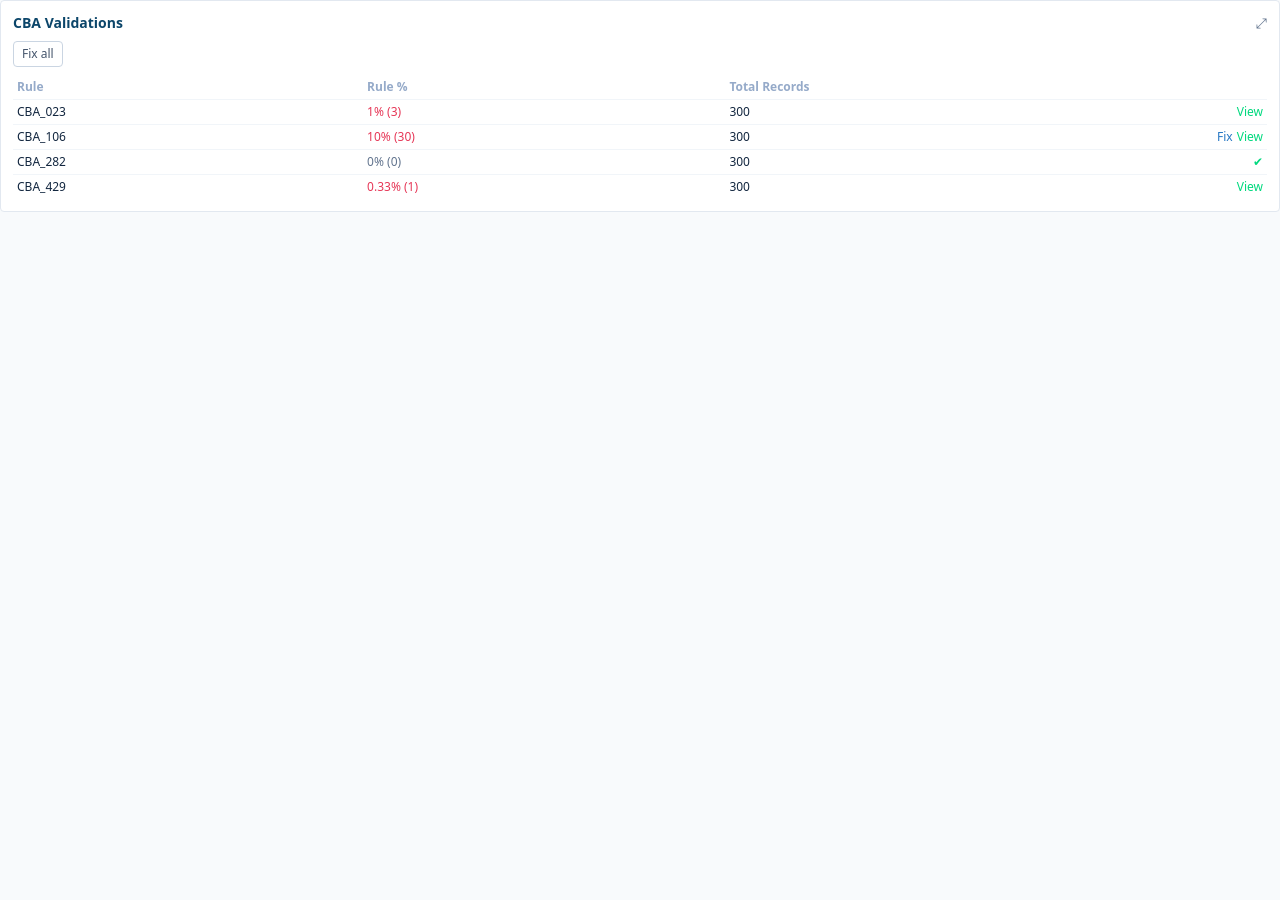
Test: ValidationPanel › opens the full table with the description of every rule
This screenshot has width=1280, height=900.
Click the button named "Expand validations".
click(1261, 23)  # box [1256, 13, 1267, 33]
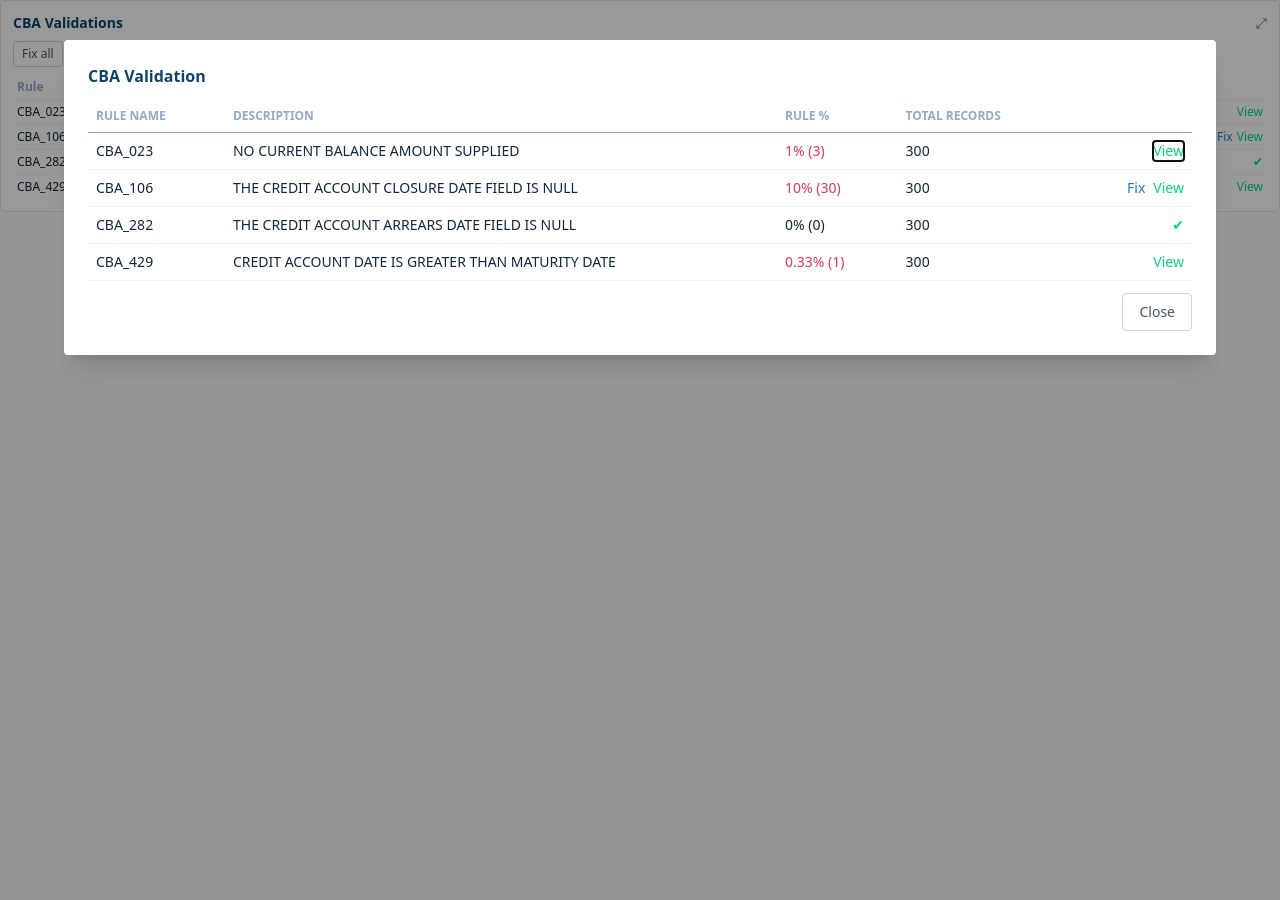
Check: the text "CBA Validation" is shown, box [13, 13, 123, 32]
Check: the table with test id "validation-table" shows "THE CREDIT ACCOUNT CLOSURE DATE FIELD IS NULL", box [233, 178, 578, 197]
